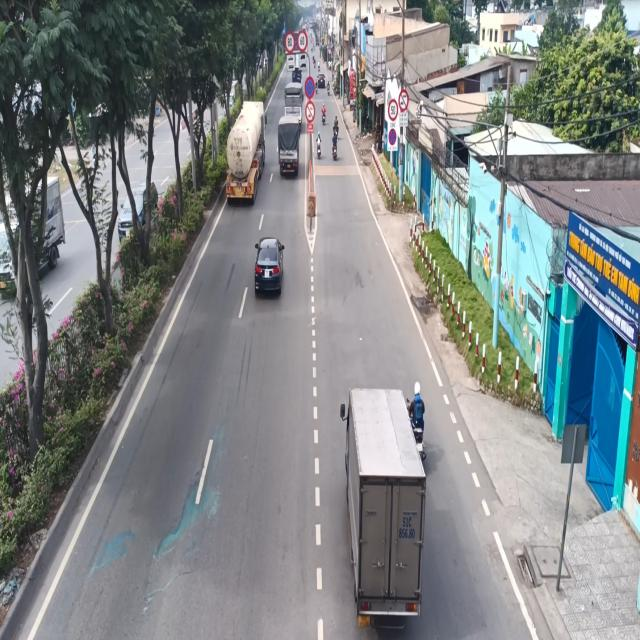car: (252, 230, 284, 300)
motor: (410, 378, 431, 464)
truck: (339, 383, 426, 636), (224, 90, 267, 208), (278, 108, 303, 184)
